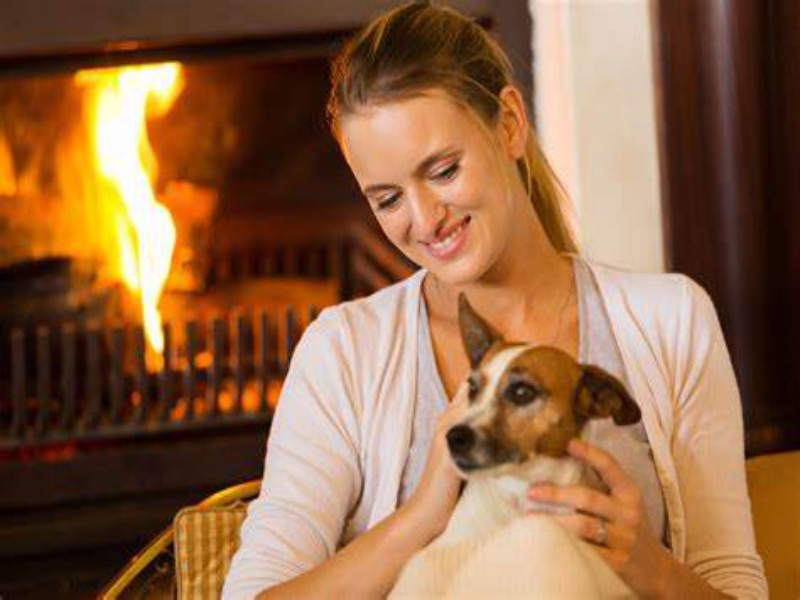fire: (93, 61, 180, 297)
